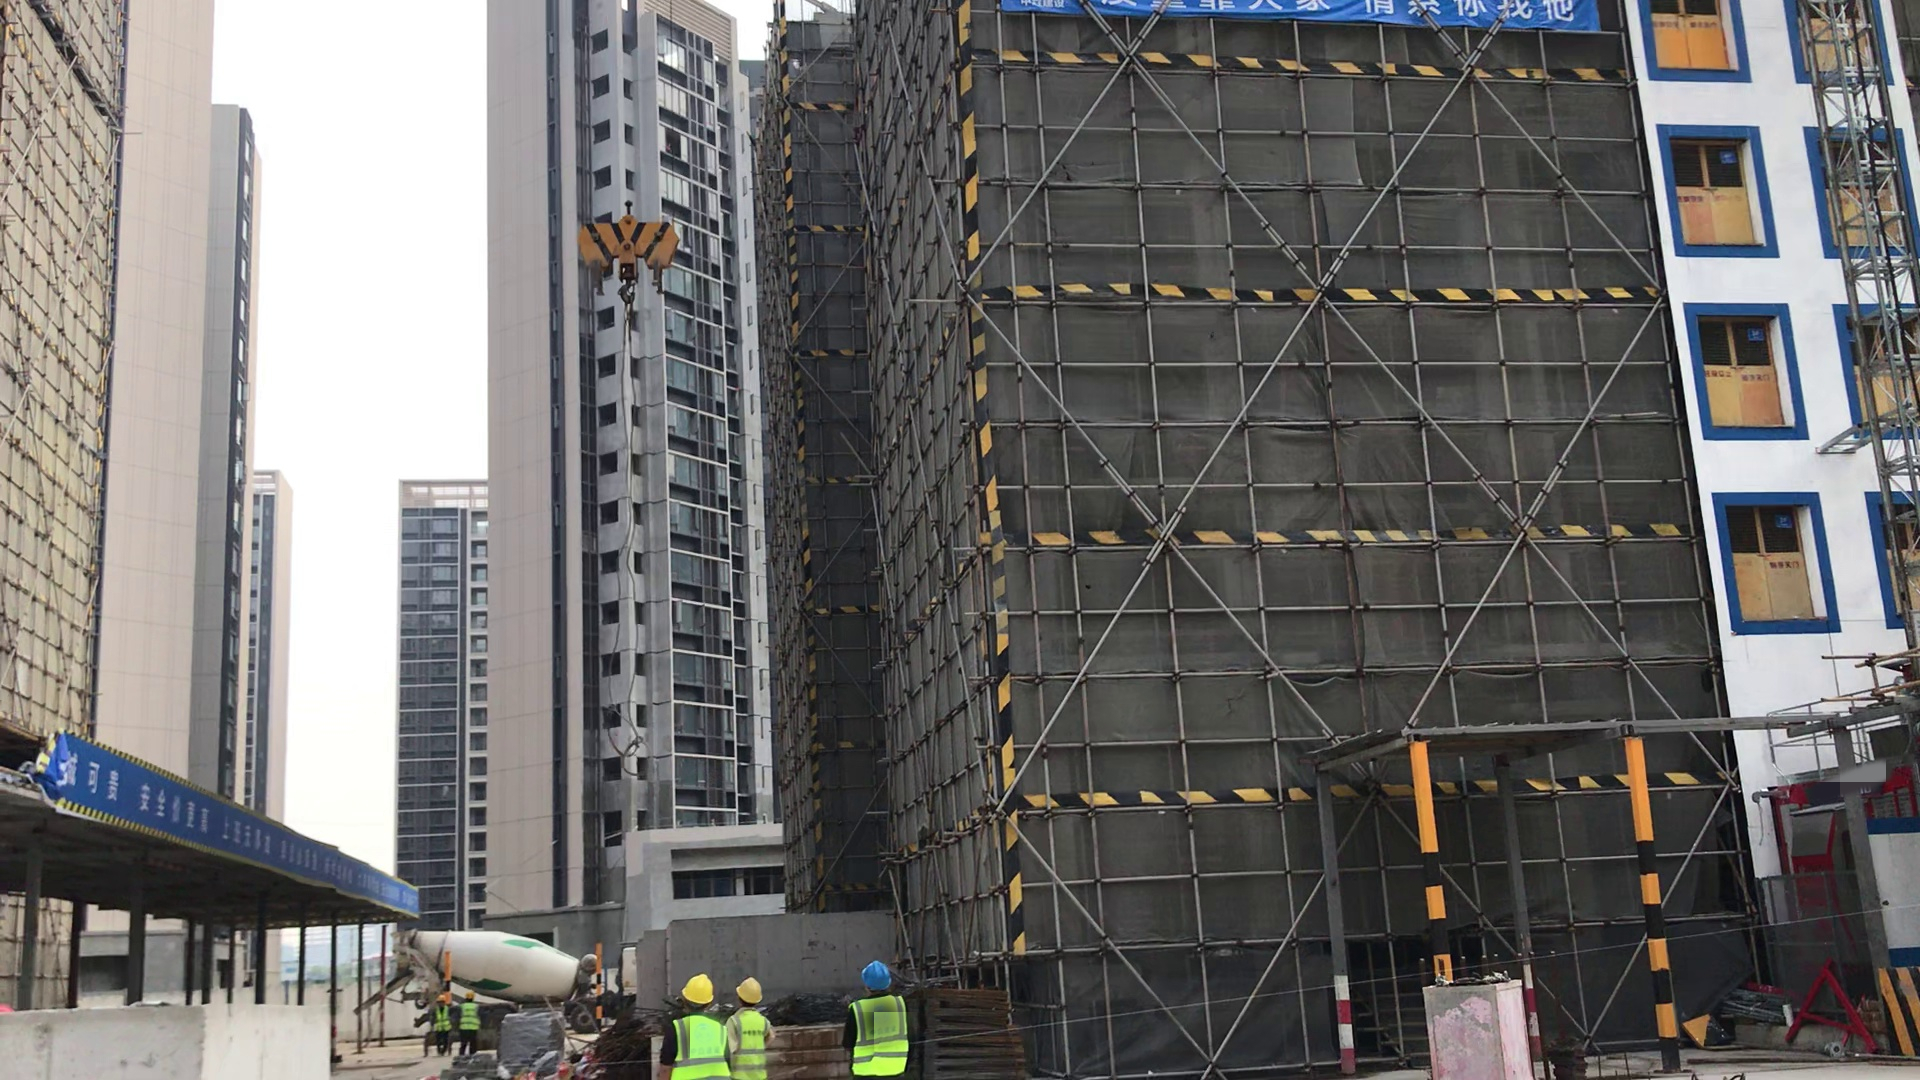helmet: (681, 972, 715, 1006), (859, 961, 897, 992), (733, 976, 769, 1007), (435, 993, 447, 1005), (464, 989, 475, 1000)
hook: (571, 202, 677, 312)
person: (842, 956, 918, 1080), (666, 971, 729, 1080), (723, 973, 775, 1076), (456, 988, 481, 1058), (428, 992, 454, 1055)
slogan: (36, 727, 433, 925), (1001, 1, 1611, 42)
vest: (848, 996, 908, 1080), (664, 1018, 732, 1080), (731, 1013, 774, 1078), (432, 1005, 453, 1032), (461, 1003, 481, 1033)
